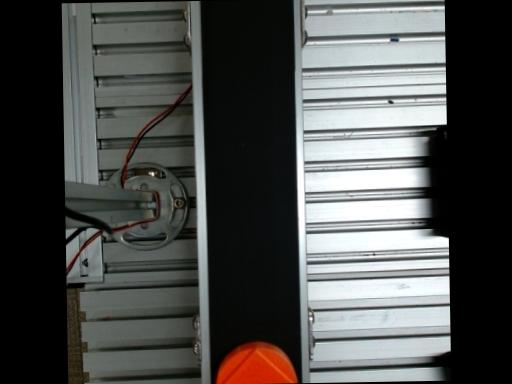Orange_Waper: (215, 342, 297, 384)
Square: (223, 348, 293, 384)
